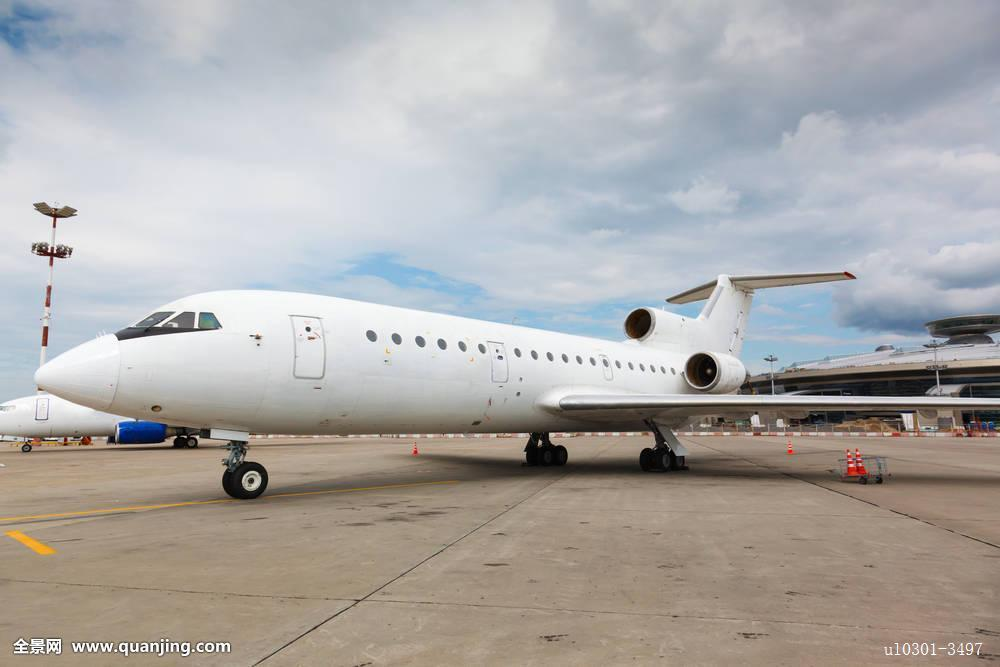airplane: (33, 260, 1000, 497)
